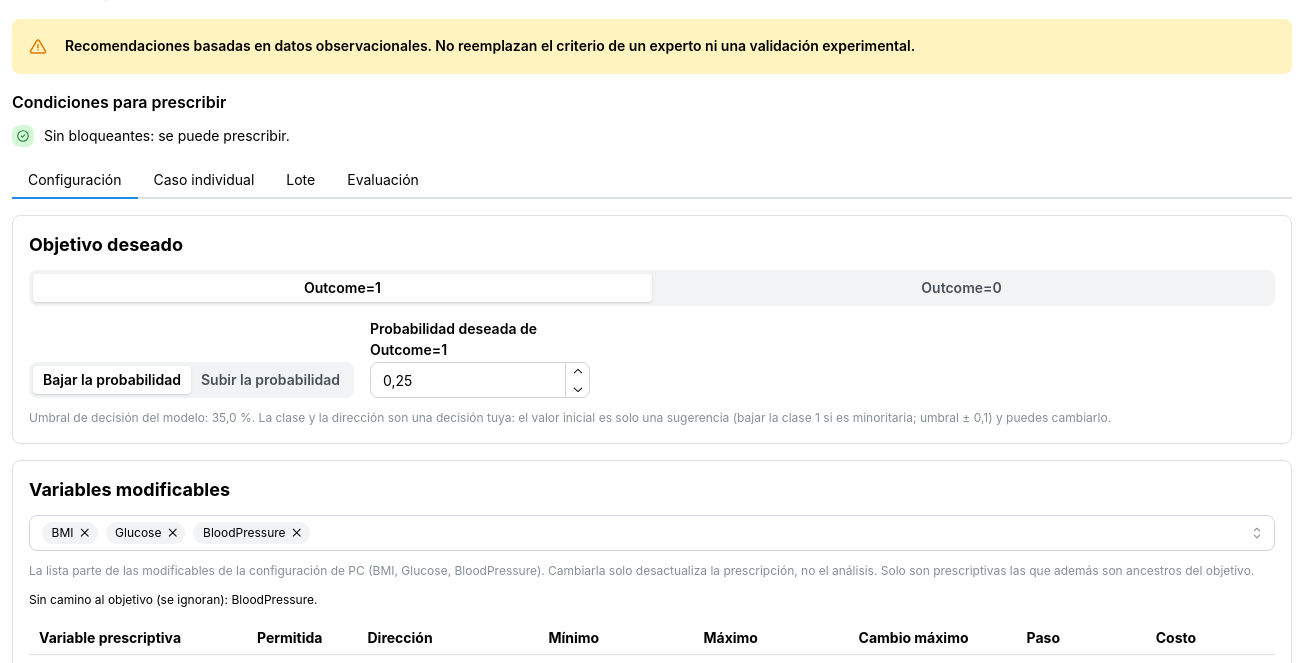
it: Prescripción: pantalla › evaluación: métricas, comparación de optimizadores y aviso de evaluación interna
Step 1. Click the tab "Evaluación" → (383, 181), box x1=331 y1=163 x2=435 y2=199
(page scrolled)
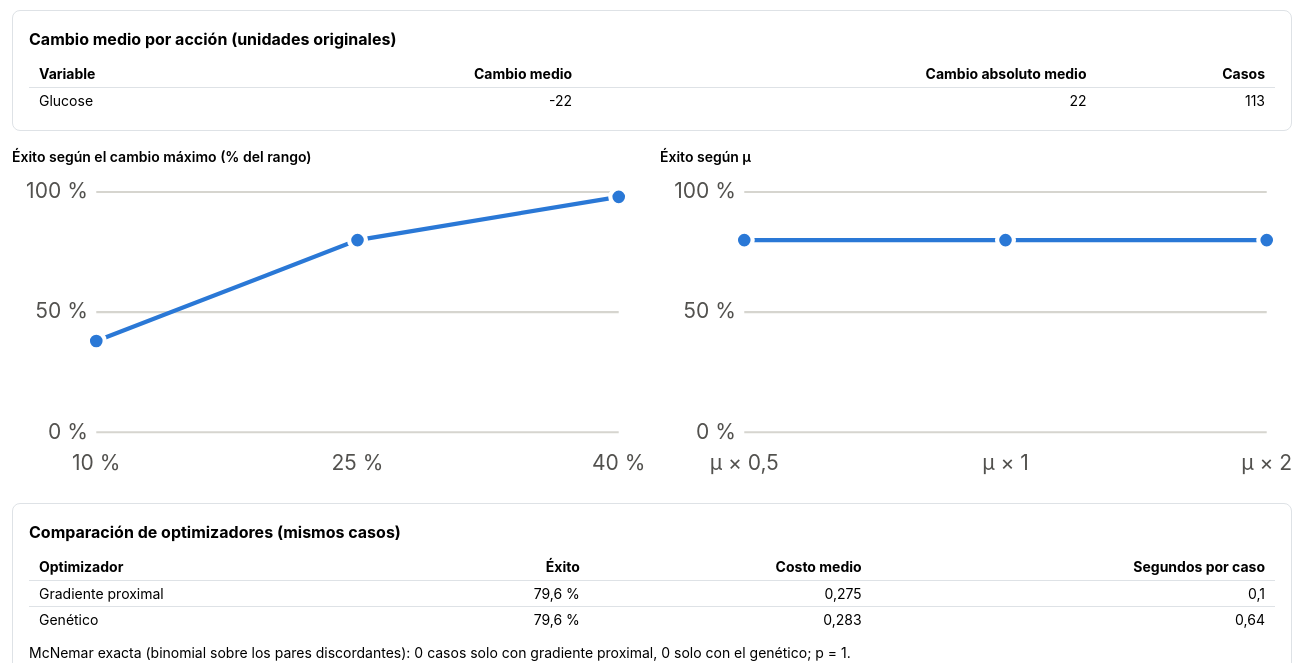
Now the text "Genético" is shown, box x1=29 y1=607 x2=414 y2=633
Now the text "McNemar exacta" shows "p = 1", box x1=29 y1=644 x2=851 y2=661
Now the picture named "Éxito según el cambio máximo (% del rango)" is shown, box x1=12 y1=171 x2=644 y2=487
